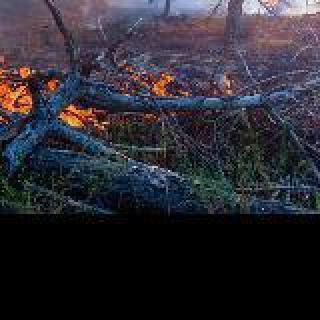fire: (0, 0, 270, 156)
